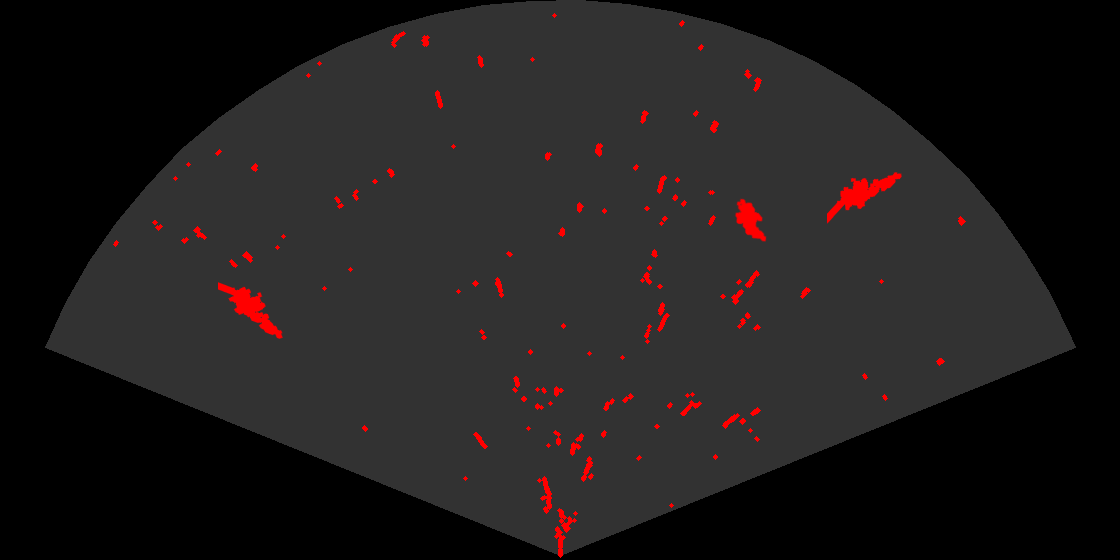AUV: (733, 197, 768, 243)
frogman: (827, 171, 903, 225), (218, 281, 284, 340)
